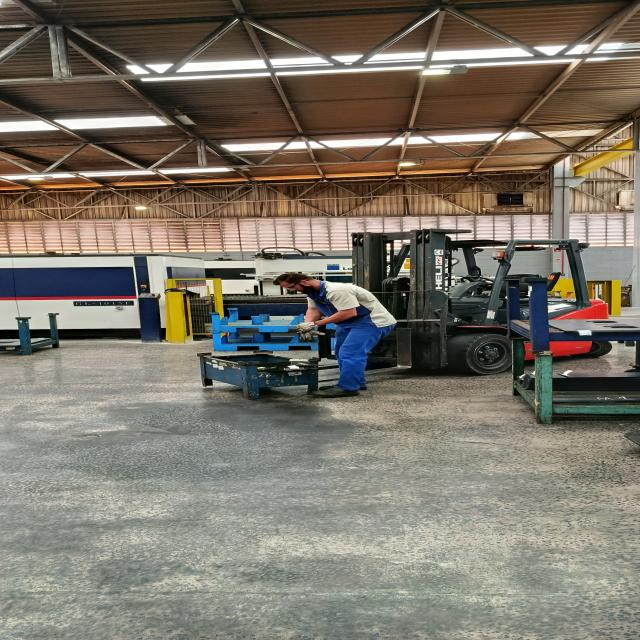oculos-epi: (286, 280, 310, 290)
